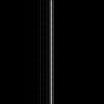square: (49, 0, 54, 104)
